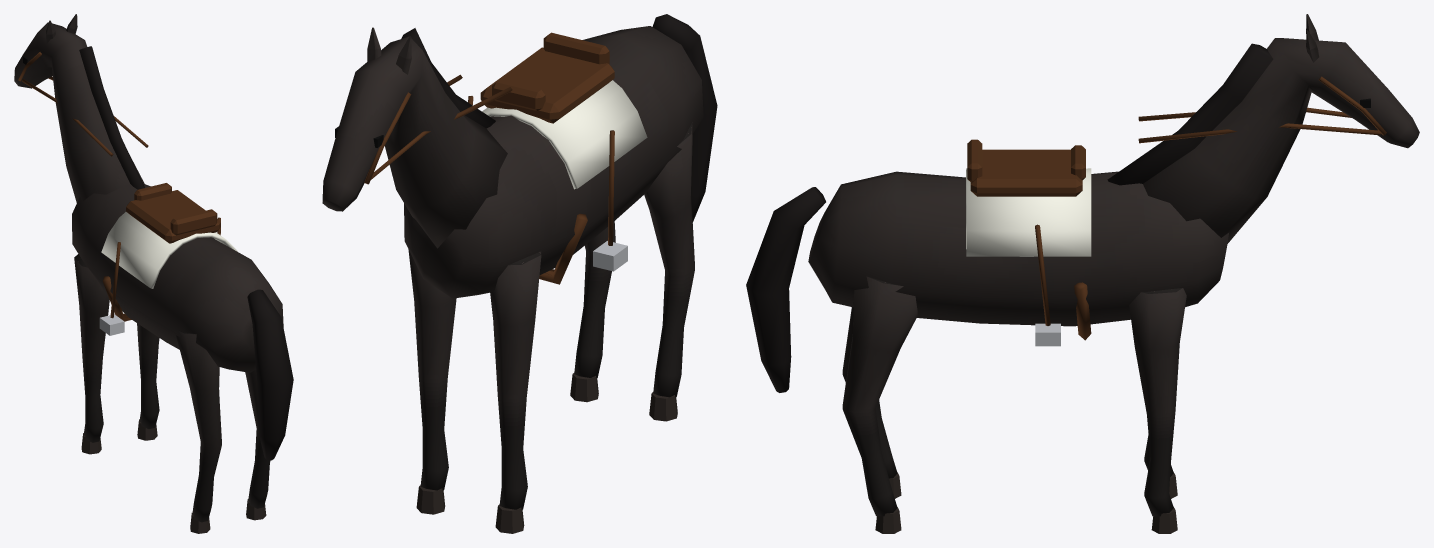
Rendered from horse_black.glb.
3 renders of one model, left to right at view 1: azimuth 30°, elevation 25°; view 2: azimuth 150°, elevation 25°; view 3: azimuth 270°, elevation 25°, orthographic. The views are drawn at different scales.
Visible parts, largest first — view 1: Body, Tack, Hair, Leg_HL, Leg_FL, Leg_FR, Leg_HR; view 2: Body, Tack, Leg_FL, Leg_HL, Leg_FR, Hair, Leg_HR; view 3: Body, Tack, Hair, Leg_HR, Leg_FR, Leg_HL.
Part boxes in pixels (left/top/right/bottom): Body: left=14, top=14, right=283, bottom=372; Tack: left=18, top=52, right=237, bottom=335; Hair: left=79, top=46, right=293, bottom=460; Leg_HL: left=176, top=331, right=221, bottom=533; Leg_FL: left=74, top=254, right=109, bottom=454; Leg_FR: left=137, top=323, right=159, bottom=440; Leg_HR: left=245, top=369, right=270, bottom=520; Body: left=322, top=26, right=703, bottom=298; Tack: left=364, top=32, right=647, bottom=284; Leg_FL: left=490, top=251, right=541, bottom=533; Leg_HL: left=644, top=122, right=694, bottom=421; Leg_FR: left=408, top=249, right=456, bottom=514; Hair: left=401, top=14, right=717, bottom=222; Leg_HR: left=570, top=221, right=615, bottom=402; Body: left=808, top=14, right=1419, bottom=326; Tack: left=966, top=76, right=1386, bottom=346; Hair: left=746, top=43, right=1273, bottom=392; Leg_HR: left=842, top=276, right=917, bottom=533; Leg_FR: left=1129, top=288, right=1186, bottom=533; Leg_HL: left=842, top=307, right=901, bottom=498.
Bounding box in the file's own units: 0.82 × 2.5 × 3.12.
8 materials, 2 textured.
